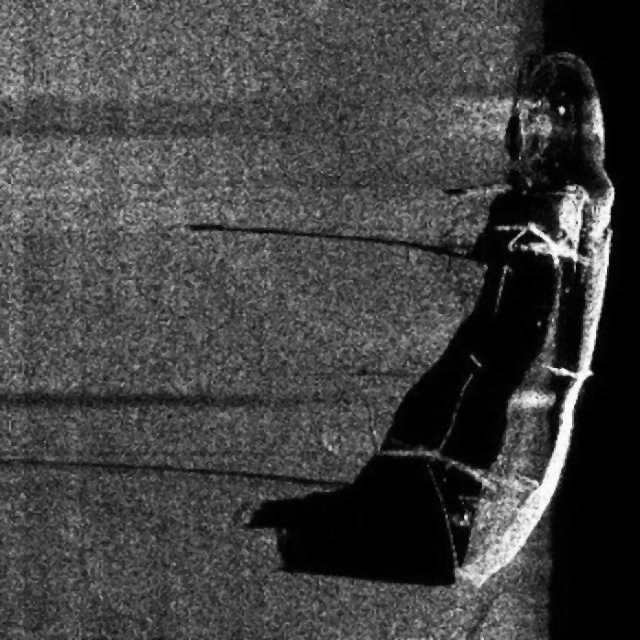Ship: (405, 45, 631, 600)
